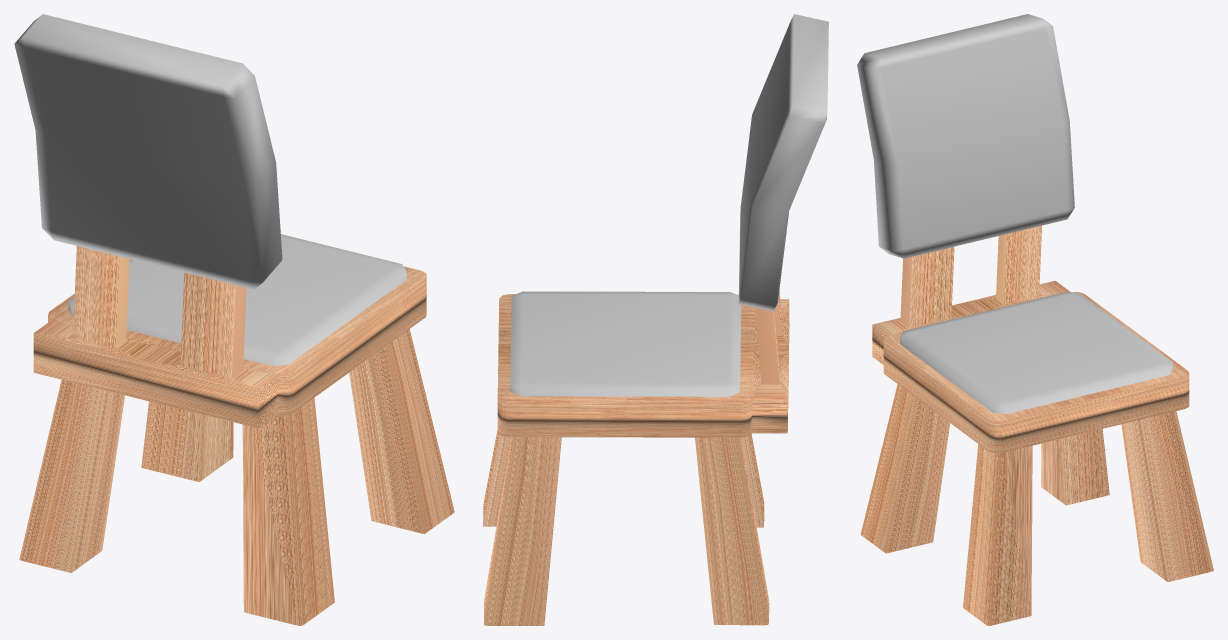
The model's file is silla salon.fbx.
3 views of the same model, side by side, from view 1: azimuth 30°, elevation 25°; view 2: azimuth 150°, elevation 25°; view 3: azimuth 270°, elevation 25° (orthographic). The views are drawn at different scales.
Parts seen in each view (by area): view 1: Cube.039; view 2: Cube.039; view 3: Cube.039.
Part boxes in pixels (x1,y1,x2,y2): Cube.039: (14,14,454,625); Cube.039: (483,14,828,625); Cube.039: (857,14,1213,625).
Bounding box in the file's own units: 385 × 506 × 358.
